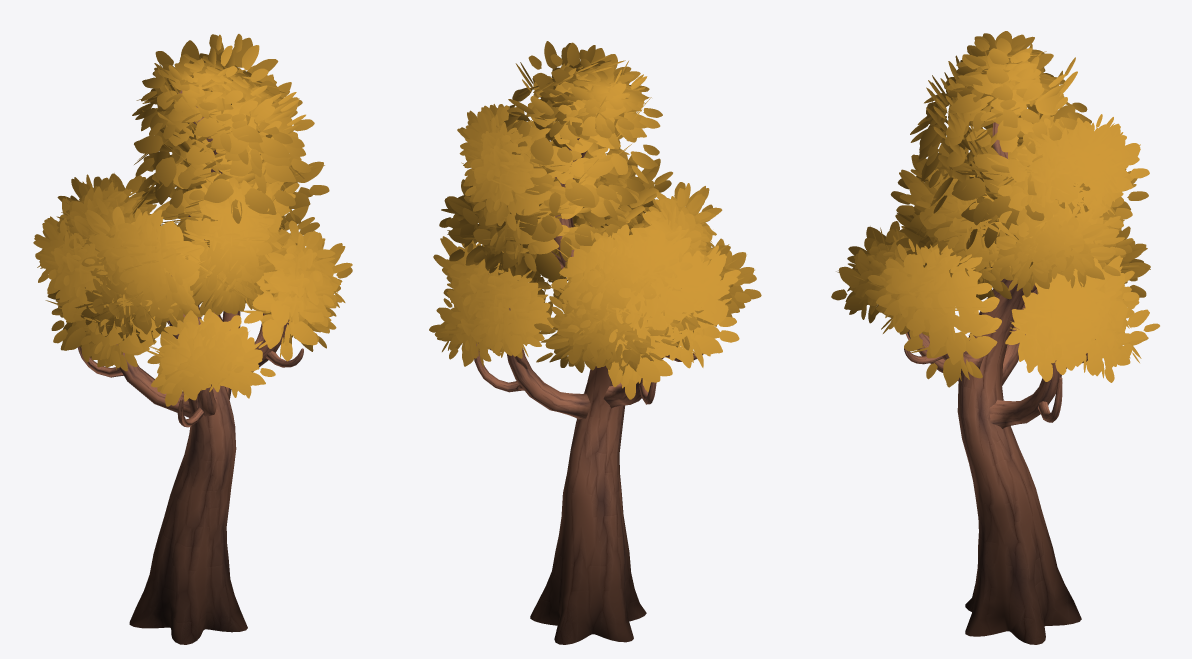
Rendered from commontree_2_autumn.gltf.
The picture shows the model from 3 angles, left to right: view 1: azimuth 30°, elevation 25°; view 2: azimuth 150°, elevation 25°; view 3: azimuth 270°, elevation 25°; orthographic projection. The views are drawn at different scales.
Parts seen in each view (by area): view 1: commontree_2_autumn; view 2: commontree_2_autumn; view 3: commontree_2_autumn.
Boxes of the visible parts, bbox=[...] form: commontree_2_autumn: bbox=[33, 34, 352, 644]; commontree_2_autumn: bbox=[429, 41, 761, 644]; commontree_2_autumn: bbox=[831, 31, 1159, 644].
Bounding box in the file's own units: 4.46 × 7.64 × 4.28.
Materials: 2 (2 with a texture image).
